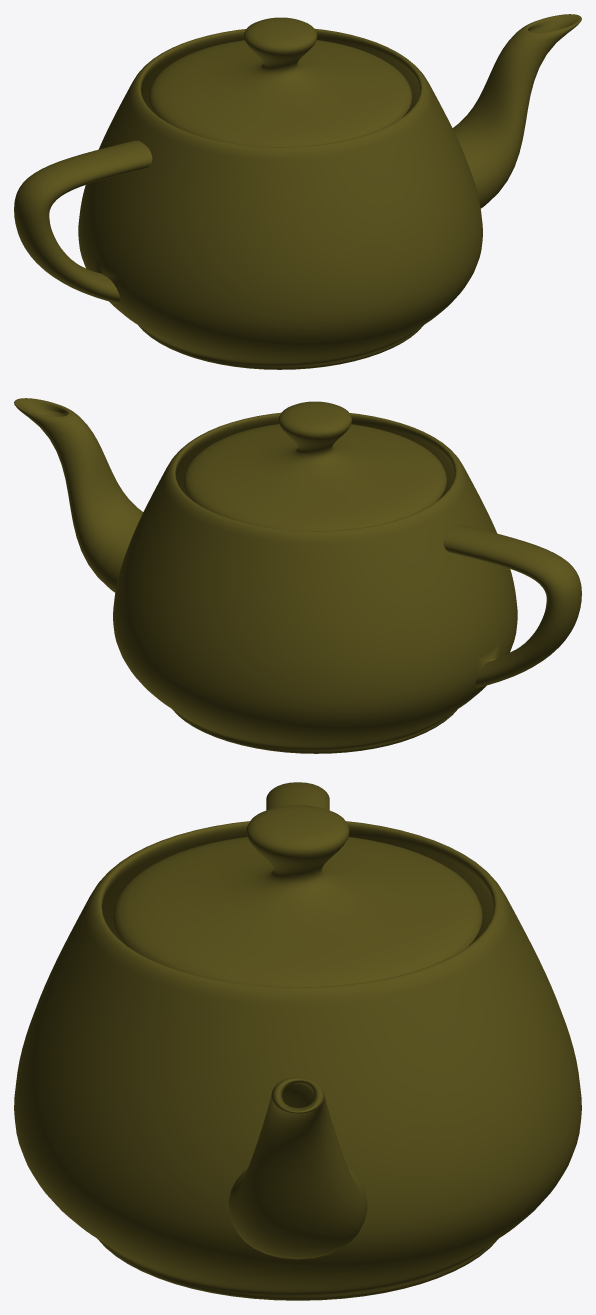
The model's file is chaleira.obj.
3 renders of one model, top to bottom at view 1: azimuth 30°, elevation 25°; view 2: azimuth 150°, elevation 25°; view 3: azimuth 270°, elevation 25°, orthographic. The views are drawn at different scales.
Visible parts, largest first — view 1: chaleira; view 2: chaleira; view 3: chaleira.
Boxes of the visible parts, box(x1,y1,x2,y2) form: chaleira: box(14, 14, 581, 369); chaleira: box(14, 398, 581, 753); chaleira: box(14, 782, 581, 1300).
Bounding box in the file's own units: 4.5 × 2.21 × 2.8.
